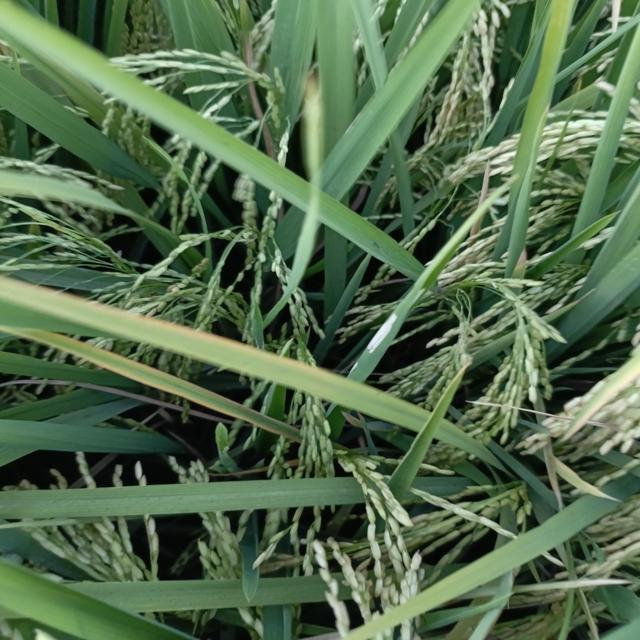brown plant hopper: (354, 303, 408, 362)
